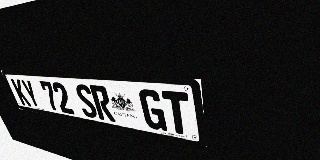2: (50, 82, 75, 115)
7: (38, 81, 62, 112)
G: (138, 89, 167, 132)
K: (10, 79, 32, 107)
R: (89, 85, 116, 122)
S: (73, 84, 99, 119)
T: (161, 91, 192, 136)
Y: (20, 79, 42, 109)
